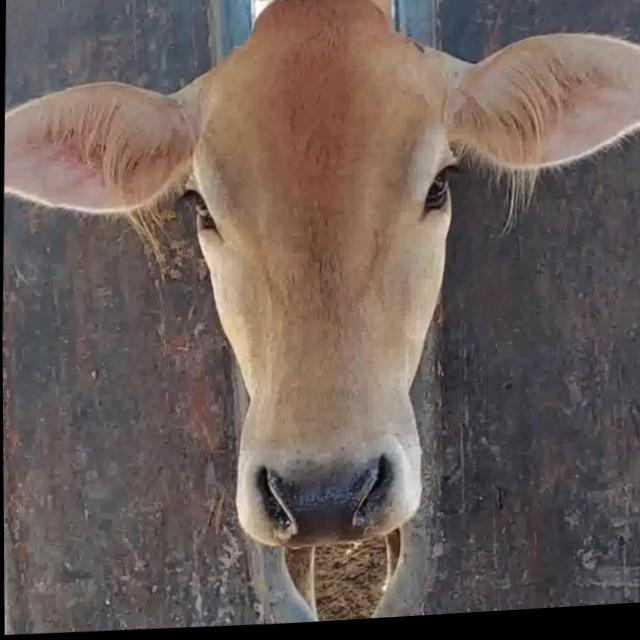cowFace: (180, 0, 457, 563)
